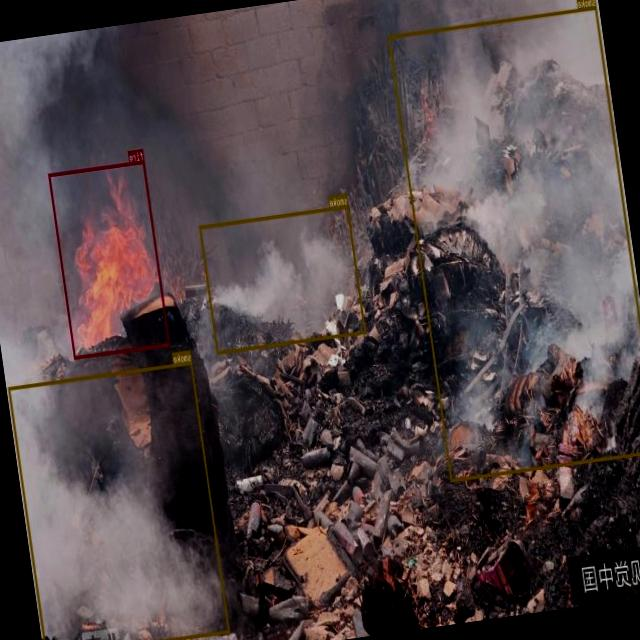fire: (48, 160, 170, 358)
smoke: (388, 6, 640, 482), (8, 361, 230, 640), (200, 204, 366, 354)
